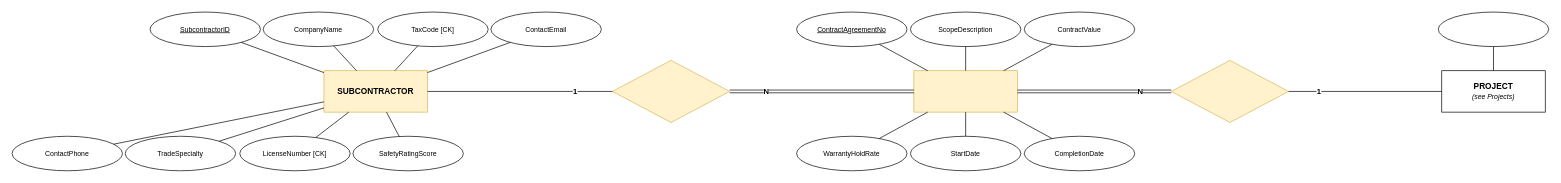
Some shapes in this 1561 by 183 pixel diagram are drawn without their labels. Each missing label, with the centre of its shape:
HOLDS_ SUBCONTRACT: (671,91)
LETS_ SUBCONTRACT: (1230,91)
ProjectID: (1493,29)
SUBCONTRACT: (965,91)
